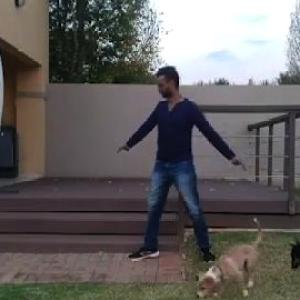land: (116, 66, 252, 264)
